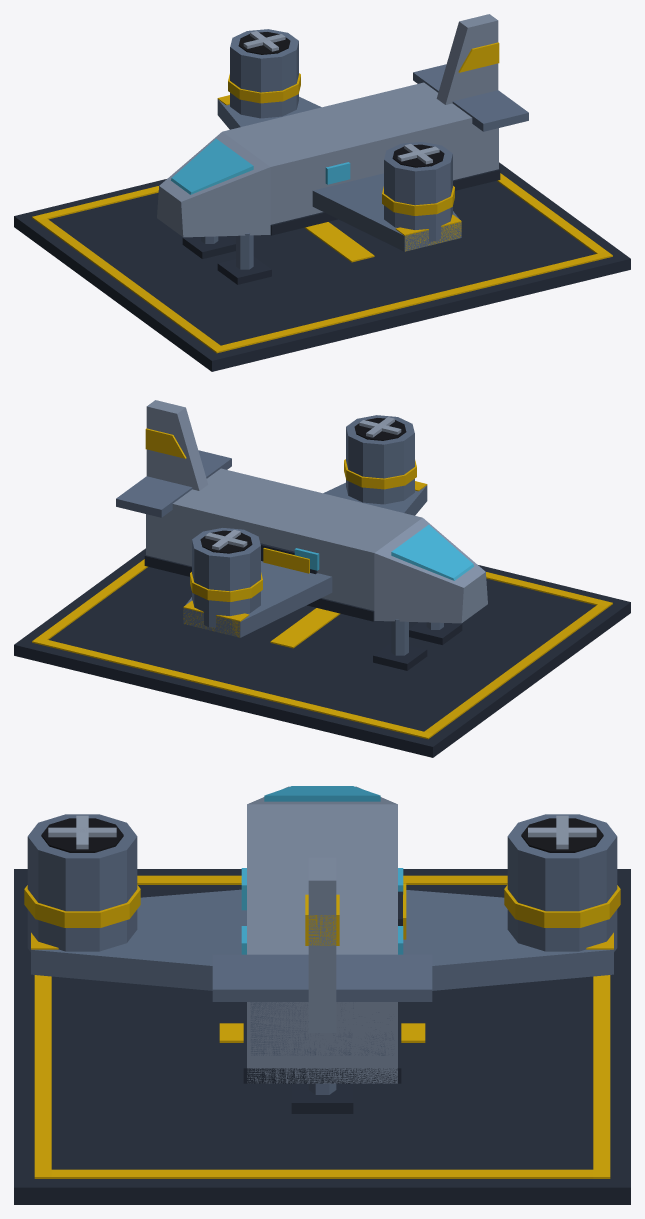
The model's file is Decor_MechaHangar_Dropship.fbx.
3 views of the same model, one above another, from view 1: azimuth 30°, elevation 25°; view 2: azimuth 150°, elevation 25°; view 3: azimuth 270°, elevation 25° (orthographic). The views are drawn at different scales.
Parts seen in each view (by area): view 1: Dropship_Body; view 2: Dropship_Body; view 3: Dropship_Body.
Part boxes in pixels (x1,y1,x2,y2): Dropship_Body: (14,14,630,371); Dropship_Body: (14,400,630,757); Dropship_Body: (14,786,630,1204).
Bounding box in the file's own units: 22 × 9.5 × 18.
